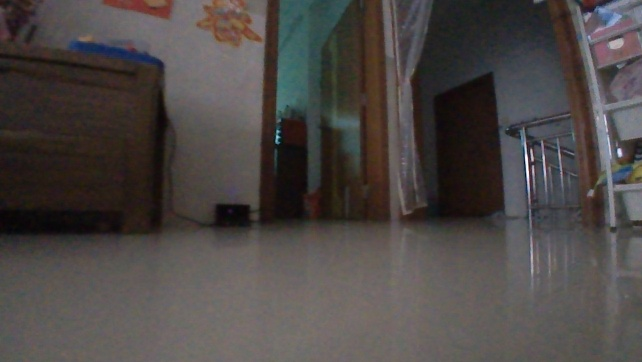door_anno: (434, 75, 505, 222)
wire: (163, 120, 213, 230)
